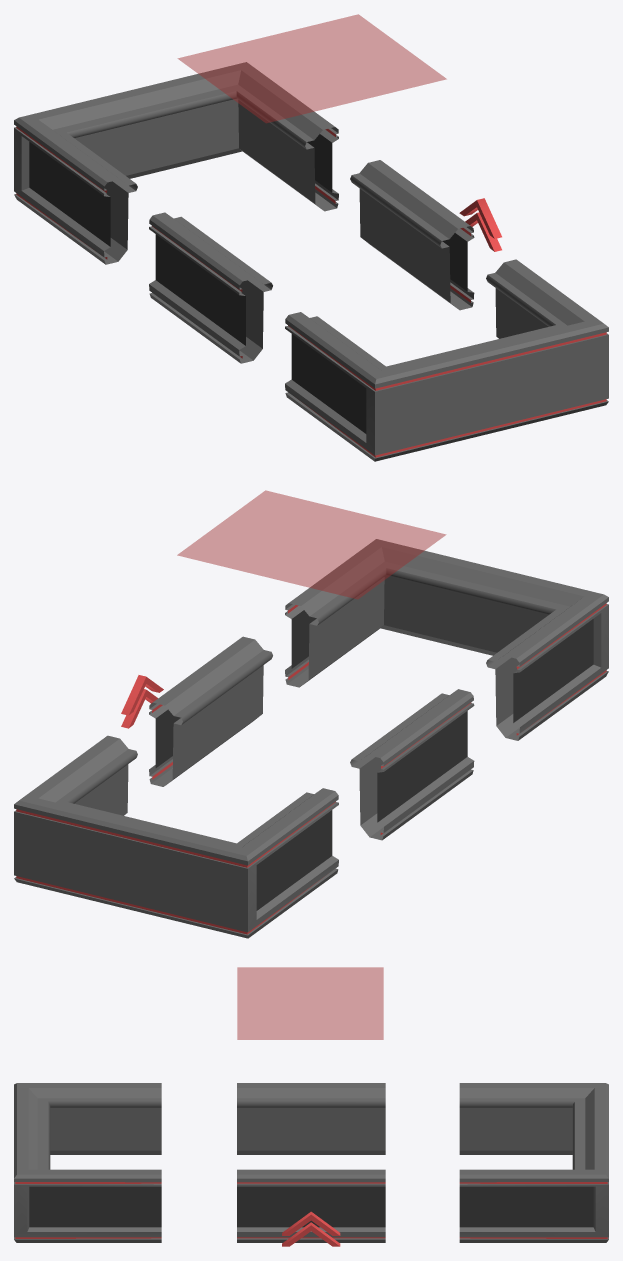
File: surinukeyuka.fbx
The picture shows the model from 3 angles, top to bottom: view 1: azimuth 30°, elevation 25°; view 2: azimuth 150°, elevation 25°; view 3: azimuth 270°, elevation 25°; orthographic projection. The views are drawn at different scales.
Visible parts, largest first — view 1: pCube25, pCube21, pCube24, pPlane4, pCube26; view 2: pCube21, pCube25, pCube24, pPlane4, pCube26; view 3: pCube21, pCube25, pCube24, pPlane4, pCube26.
Part boxes in pixels (<box>): pCube25: <box>285,259,608,461</box>; pCube21: <box>14,62,338,264</box>; pCube24: <box>149,160,474,363</box>; pPlane4: <box>177,14,446,123</box>; pCube26: <box>459,198,501,251</box>; pCube21: <box>14,735,338,938</box>; pCube25: <box>285,539,608,740</box>; pCube24: <box>149,636,474,840</box>; pPlane4: <box>177,490,446,599</box>; pCube26: <box>121,675,163,728</box>; pCube21: <box>459,1083,608,1242</box>; pCube25: <box>14,1083,161,1242</box>; pCube24: <box>237,1083,385,1242</box>; pPlane4: <box>237,967,383,1039</box>; pCube26: <box>282,1211,340,1246</box>.
Size of the model in its own units: 3.72 by 2.86 by 8.01.
